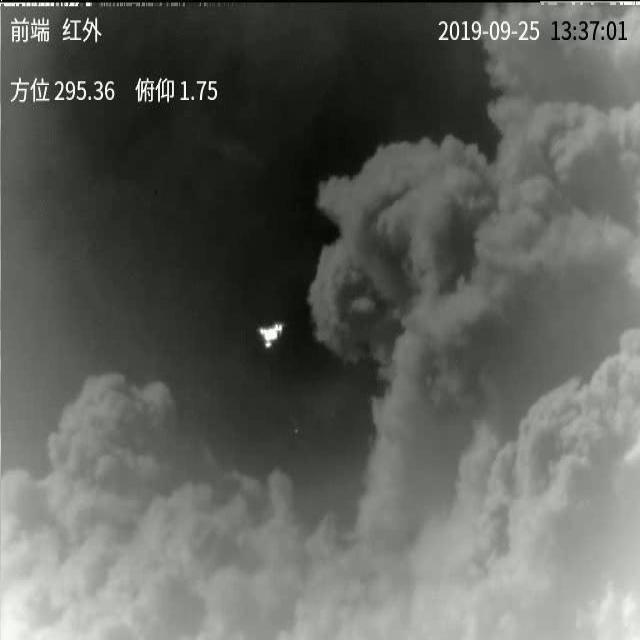drone: (260, 322, 286, 350)
